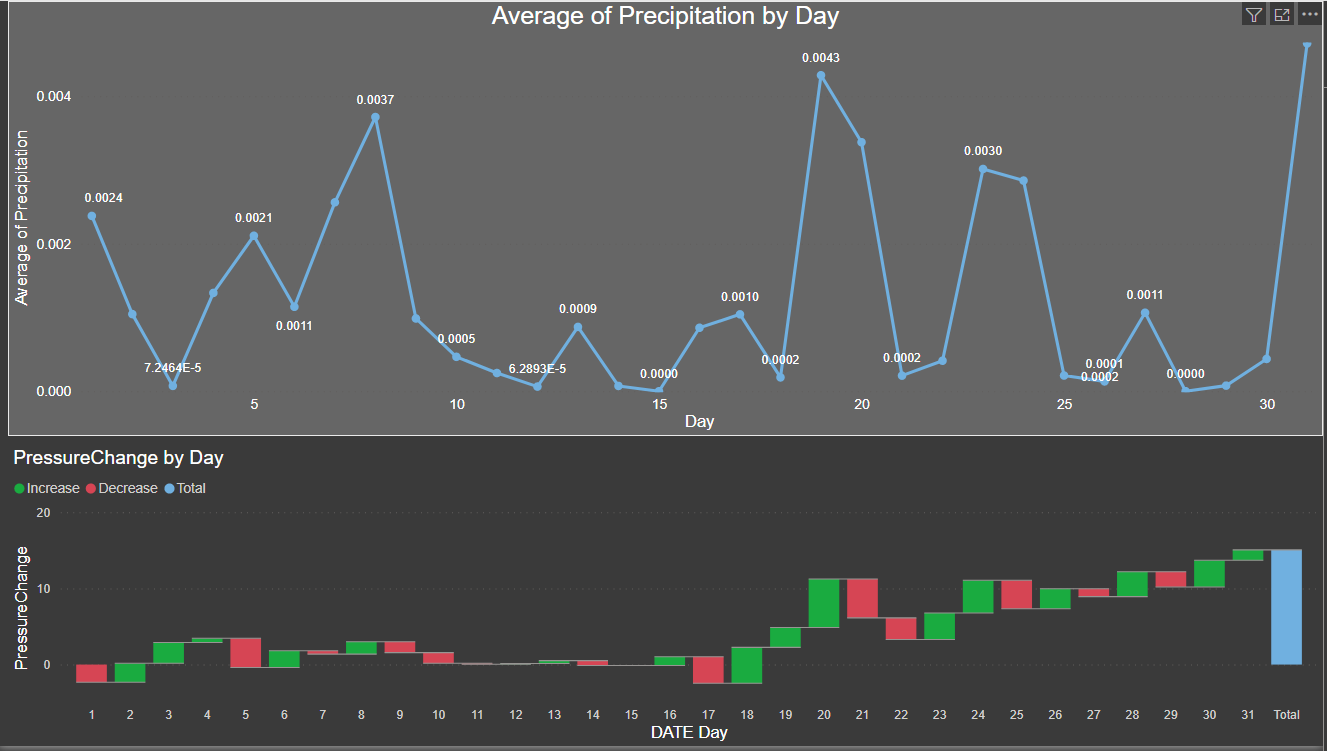

What the dashboard file says about the page in this screenshot:
{"tool":"powerbi","page":{"name":"Page 1","canvas":[1280,720],"ordinal":0},"visuals":[{"type":"lineChart","fields":{"Category":["weather_data.DATE.Variation.Date Hierarchy.Day"],"Y":["Avg(weather_data.Precipitation)"]},"box":[9.7,0,1270.3,419.8],"z":0},{"type":"waterfallChart","fields":{"Category":["weather_data.DATE.Variation.Date Hierarchy.Day"],"Y":["Sum(weather_data.PressureChange)"]},"box":[9.7,429.9,1270.3,289.8],"z":1}]}

Visuals, with their boxes in screenshot pixels (x1, y1, x2, y2), scaled from the page's 1280x720 canvas onto the 1327x751 screenshot:
lineChart - weather_data.DATE.Variation.Date Hierarchy.Day x Avg(weather_data.Precipitation): 10 0 1326 438
waterfallChart - weather_data.DATE.Variation.Date Hierarchy.Day x Sum(weather_data.PressureChange): 10 448 1326 750
